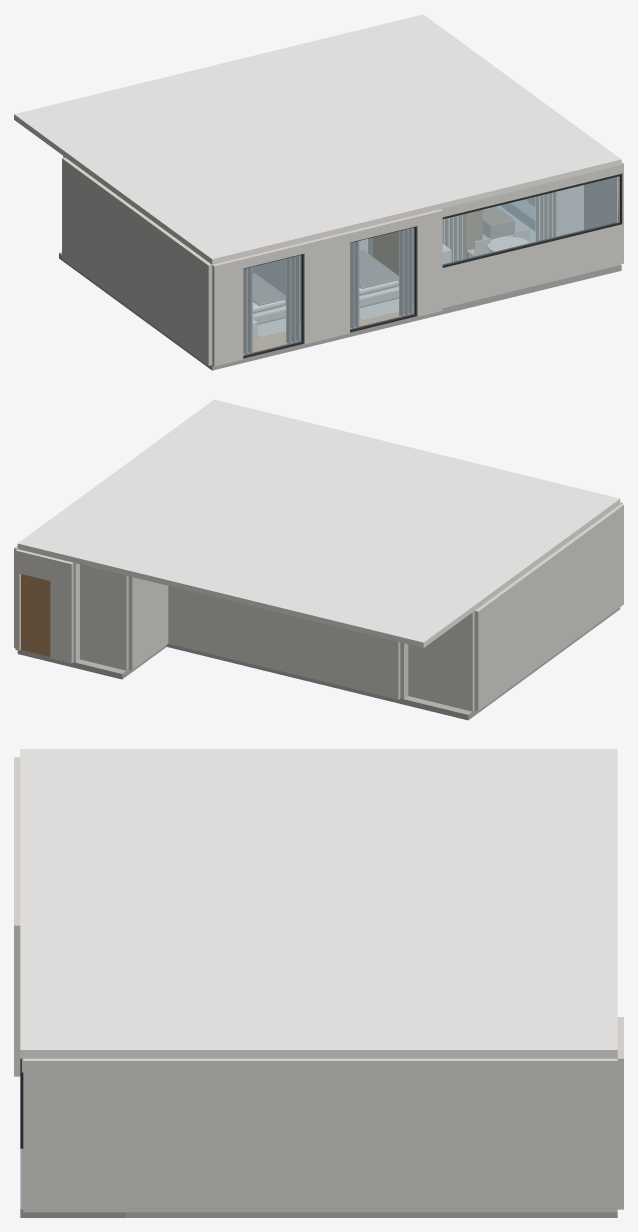
Rendered from unidad_tipo101.glb.
3 renders of one model, top to bottom at view 1: azimuth 30°, elevation 25°; view 2: azimuth 150°, elevation 25°; view 3: azimuth 270°, elevation 25°, orthographic. The views are drawn at different scales.
Visible parts, largest first — view 1: TECHO, w12, vid38, w37, vid17.001, vid17, w15, w13, w17, suelo_base, vid36, w9 (+21 smaller); view 2: TECHO, w12, w1, w11, w3, w2, w6, puerta_entrada, suelo_base, suelo_hall, w7, w5 (+2 smaller); view 3: TECHO, w9, suelo_base, w17, w8, suelo_hall, suelo_sacada.
Part boxes in pixels (x1,y1,x2,y2): TECHO: [14, 14, 621, 264]; w12: [62, 157, 212, 365]; vid38: [442, 177, 619, 264]; w37: [442, 224, 620, 307]; vid17.001: [350, 227, 414, 329]; vid17: [243, 255, 301, 355]; w15: [303, 232, 349, 344]; w13: [212, 258, 243, 366]; w17: [416, 209, 442, 316]; suelo_base: [59, 252, 621, 370]; vid36: [463, 197, 534, 258]; w9: [584, 162, 623, 264]; TECHO: [17, 399, 620, 647]; w12: [474, 504, 623, 710]; w1: [168, 586, 400, 699]; w11: [408, 611, 474, 711]; w3: [80, 564, 128, 670]; w2: [128, 576, 168, 669]; w6: [50, 557, 73, 663]; puerta_entrada: [21, 574, 50, 656]; suelo_base: [166, 607, 620, 720]; suelo_hall: [17, 645, 166, 679]; w7: [19, 550, 51, 580]; w5: [73, 563, 79, 662]; TECHO: [20, 749, 617, 1058]; w9: [23, 1058, 617, 1212]; suelo_base: [126, 1212, 482, 1217]; w17: [14, 907, 20, 1076]; w8: [617, 1055, 623, 1209]; suelo_hall: [482, 1212, 617, 1217]; suelo_sacada: [20, 1148, 125, 1217].
Size of what is drawn, in the model's own units: 11.74 by 3 by 9.88.
